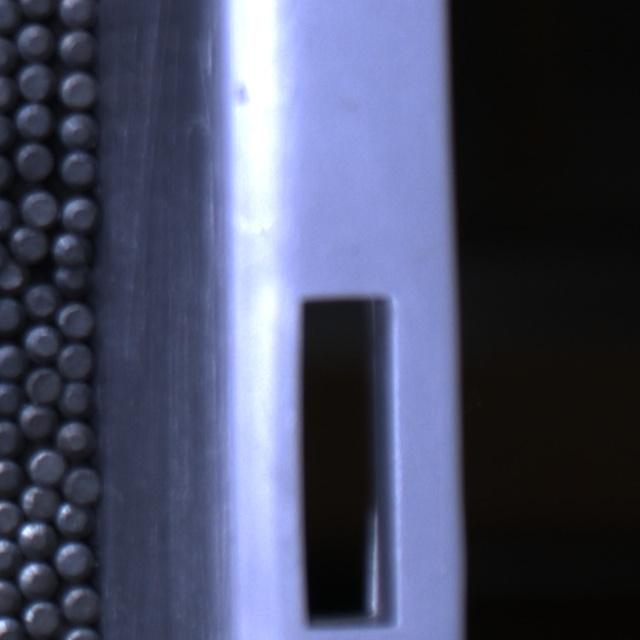tool: (18, 188, 58, 227), (56, 419, 96, 457), (58, 149, 98, 187), (21, 600, 60, 638), (55, 540, 94, 578), (15, 560, 54, 598), (8, 225, 48, 262), (16, 141, 54, 179), (62, 466, 101, 503), (61, 584, 100, 621), (60, 193, 99, 230), (57, 26, 96, 63), (58, 72, 98, 108), (58, 112, 98, 148), (27, 446, 65, 483), (17, 22, 54, 60), (16, 101, 54, 138), (19, 402, 57, 438), (19, 62, 55, 99), (25, 366, 61, 402), (58, 342, 94, 378), (23, 323, 61, 357), (57, 302, 95, 336), (59, 381, 95, 416), (19, 484, 56, 518), (24, 282, 59, 316), (22, 524, 54, 558), (54, 234, 90, 264), (56, 506, 93, 535), (56, 0, 97, 25), (55, 268, 90, 294), (0, 259, 26, 293), (0, 347, 27, 377), (0, 298, 23, 333), (0, 459, 23, 494), (0, 419, 22, 455), (0, 540, 22, 576), (0, 580, 22, 615), (0, 502, 21, 534), (17, 0, 56, 17), (0, 0, 21, 31), (55, 626, 101, 640), (0, 385, 23, 413), (0, 194, 16, 233), (0, 616, 23, 640), (0, 41, 15, 72), (0, 113, 13, 148), (0, 154, 12, 190), (0, 76, 13, 105)
